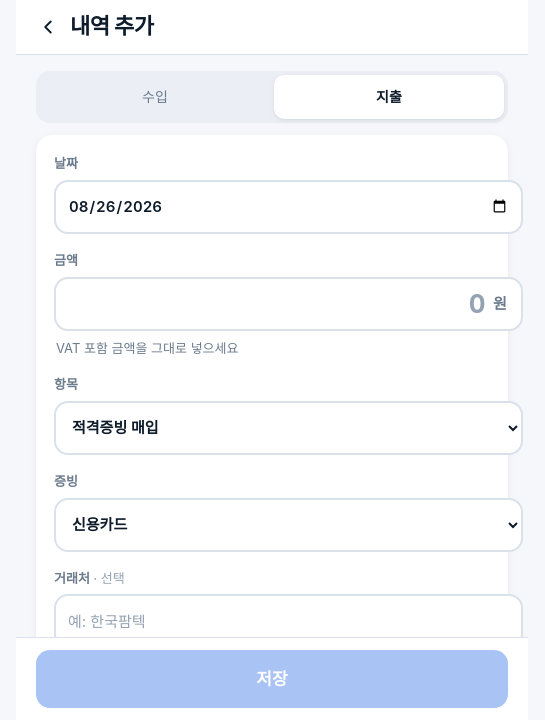
it: EntryForm — 수입/지출 전환 › 지출로 되돌리면 지출 항목과 증빙이 다시 나온다
The width and height of the screenshot is (545, 720).
What coordinates should you click on to do the following:
click the radio button labelled "수입"
I would click on:
 (155, 97)
Its box is [40,75,270,119].
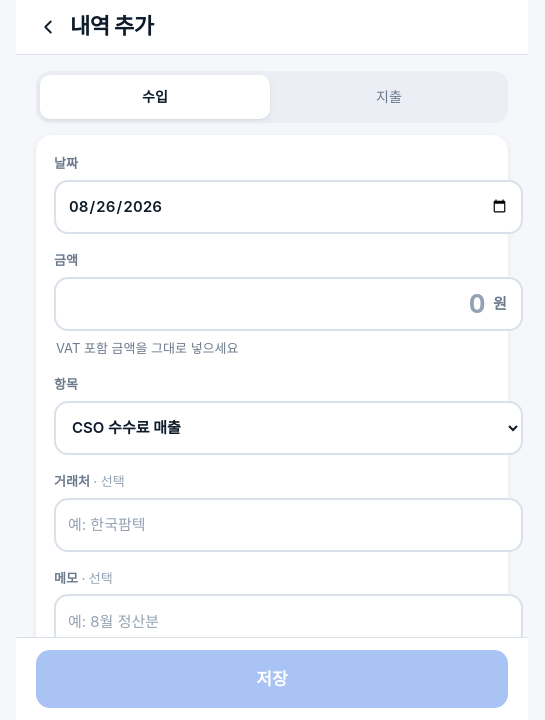
What coordinates should you click on to do the following:
click the radio button labelled "지출"
I would click on:
 (389, 97)
Its box is [274,75,504,119].
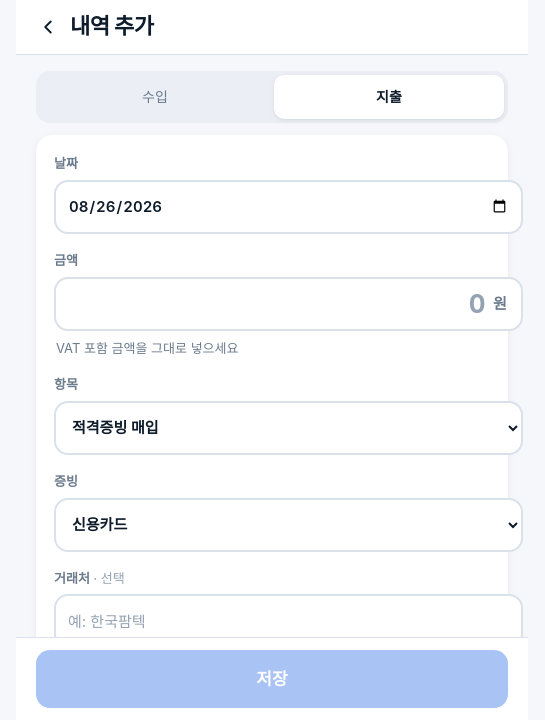
Expected: the dropdown labelled "항목" shows "적격증빙 매입", [54,401,523,455]
Expected: the dropdown labelled "증빙" shows "신용카드", [54,498,523,552]
